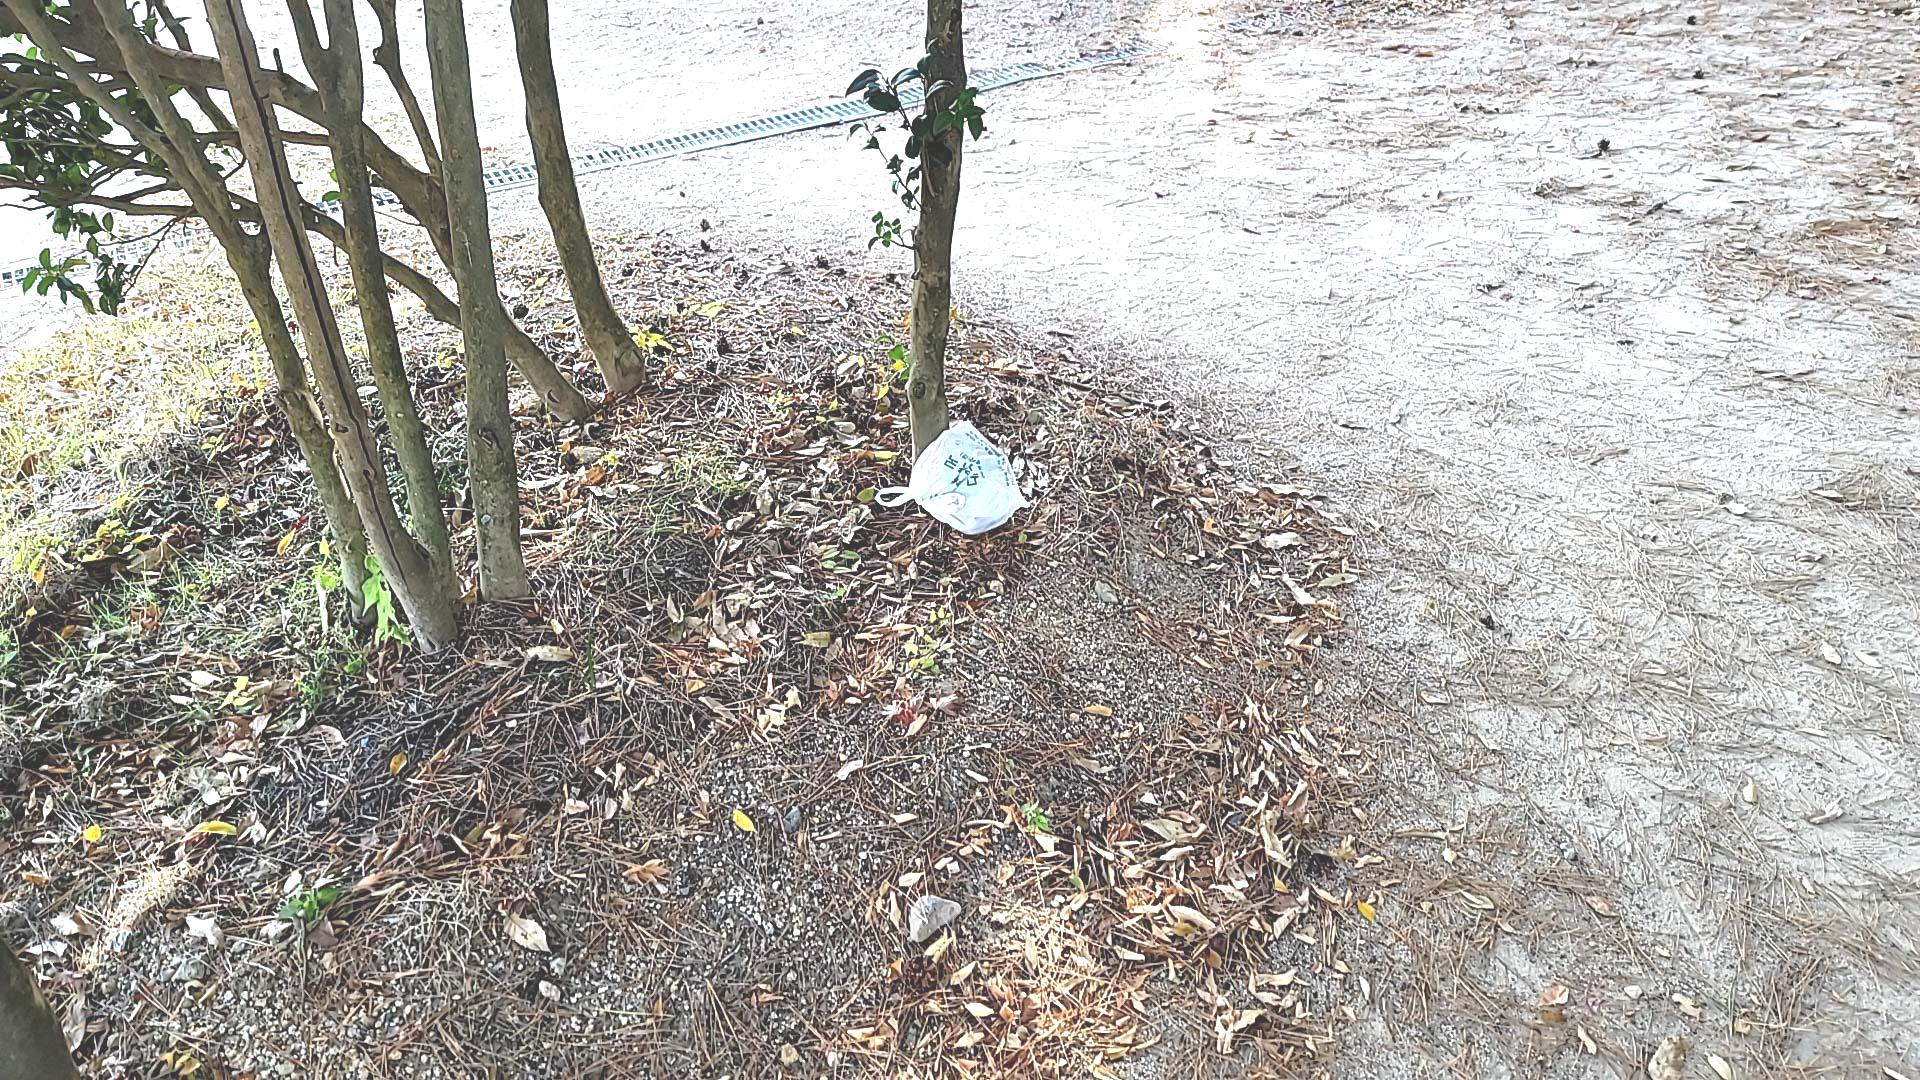white_bag: (865, 411, 1040, 542)
